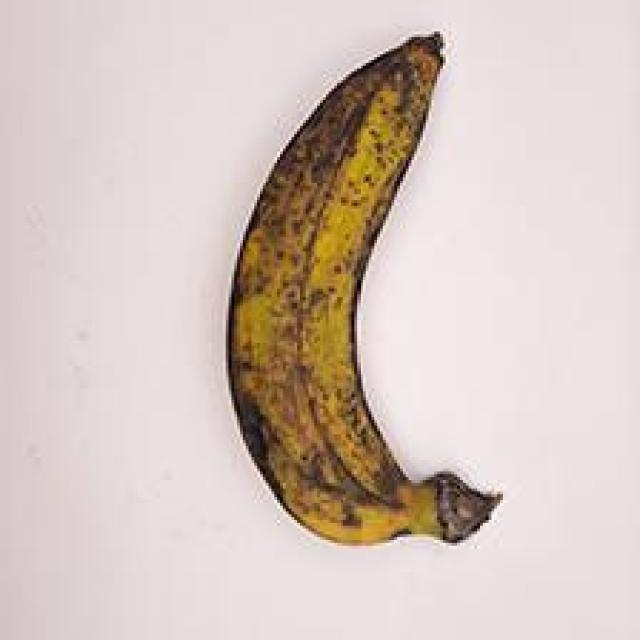Overripe: (195, 4, 532, 569)
